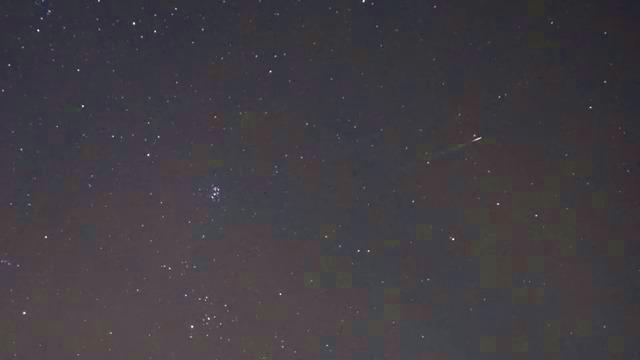meteorite: (446, 133, 499, 147)
